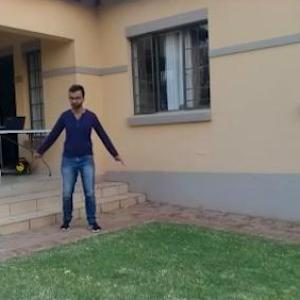land: (34, 90, 127, 236)
